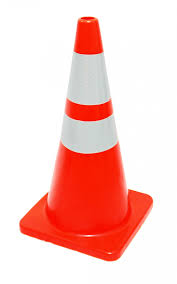cones: (17, 15, 157, 263)
